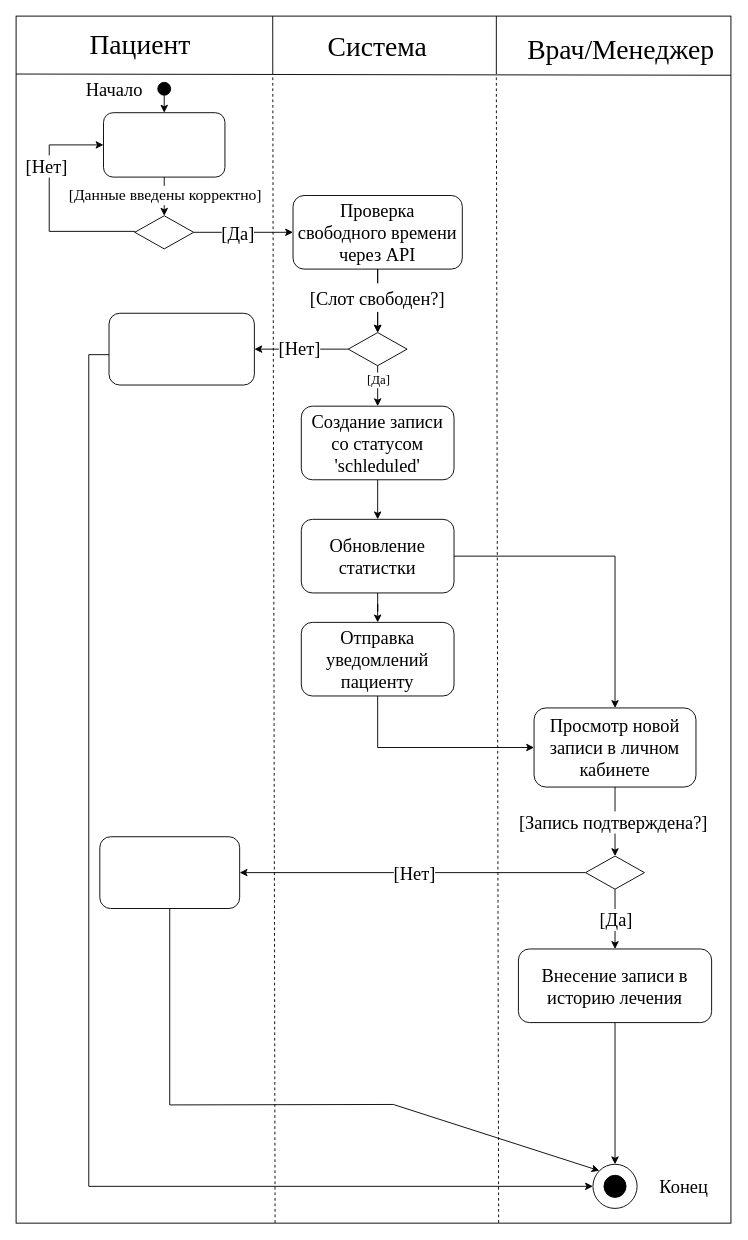
Some shapes in this 748 by 1240 pixel diagram are drawn without their labels. Here are the shapes that lost their labels. From the top down, the box of each, then its label:
(103, 112, 225, 177): Выбор врача, услуги, даты
(108, 312, 254, 385): Сообщение об ошибке(слот занят)
(99, 836, 240, 908): Статус 'cancelled'
